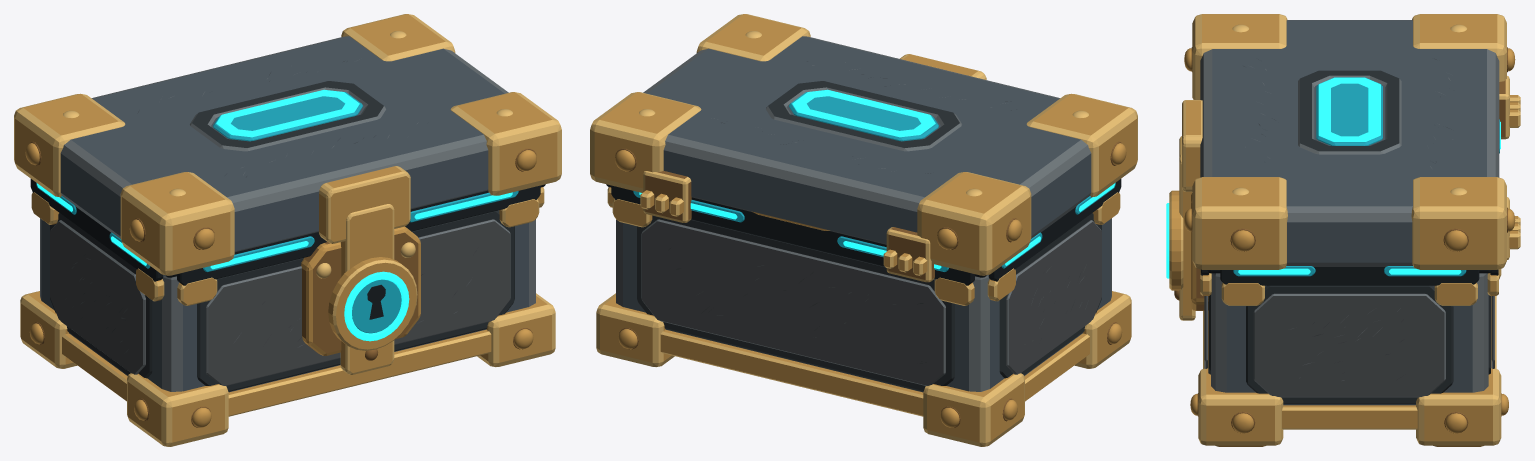
File: wsc-prop-049-cache-chest.glb
The picture shows the model from 3 angles, left to right: view 1: azimuth 30°, elevation 25°; view 2: azimuth 150°, elevation 25°; view 3: azimuth 270°, elevation 25°; orthographic projection. The views are drawn at different scales.
Parts seen in each view (by area): view 1: WSC-PROP-049 | chest; view 2: WSC-PROP-049 | chest; view 3: WSC-PROP-049 | chest.
Part boxes in pixels (x1,y1,x2,y2): WSC-PROP-049 | chest: (14,14,561,446); WSC-PROP-049 | chest: (590,14,1137,446); WSC-PROP-049 | chest: (1166,14,1520,446).
Bounding box in the file's own units: 1.61 × 0.892 × 1.16.
